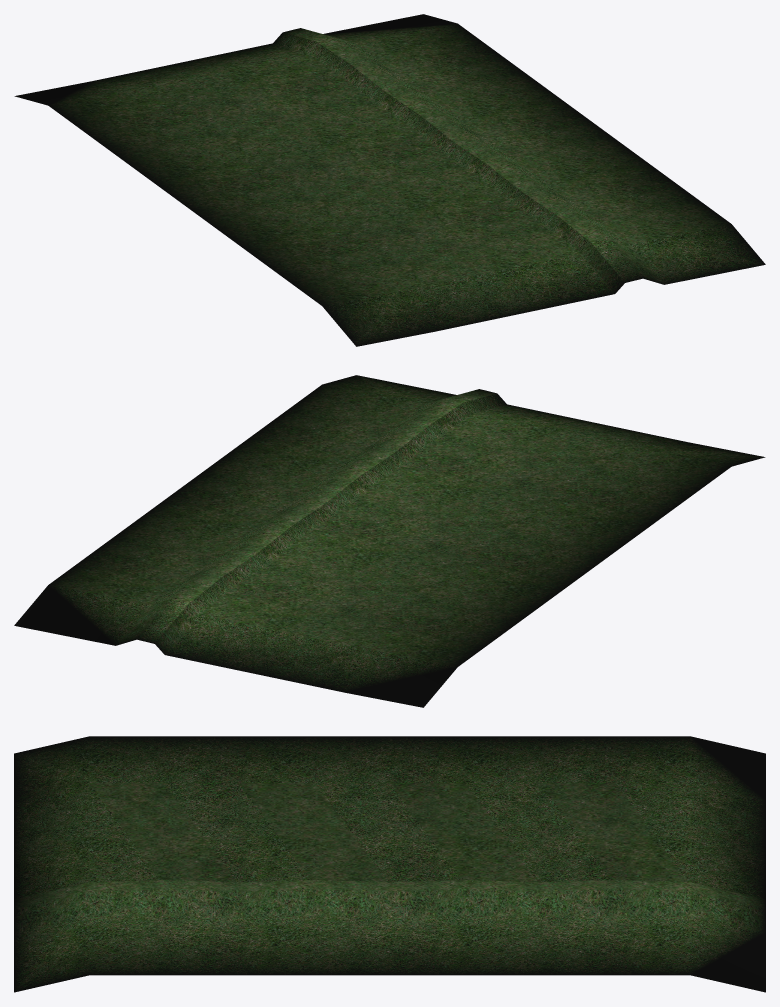
The model's file is TANBO0_R.glb.
The picture shows the model from 3 angles, top to bottom: view 1: azimuth 30°, elevation 25°; view 2: azimuth 150°, elevation 25°; view 3: azimuth 270°, elevation 25°; orthographic projection. The views are drawn at different scales.
Parts seen in each view (by area): view 1: Tanbo2; view 2: Tanbo2; view 3: Tanbo2.
Boxes of the visible parts, box(x1,y1,x2,y2) form: Tanbo2: box(14, 14, 765, 346); Tanbo2: box(14, 375, 765, 707); Tanbo2: box(14, 736, 765, 992).
Size of the model in its own units: 86.32 by 6.81 by 125.
Materials: 2 (2 with a texture image).
